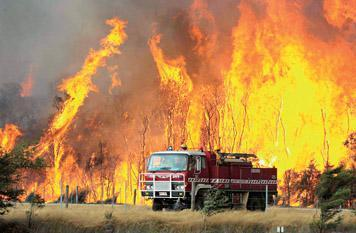fire: (151, 4, 354, 159), (33, 6, 138, 198), (274, 159, 314, 207), (0, 118, 25, 156)
